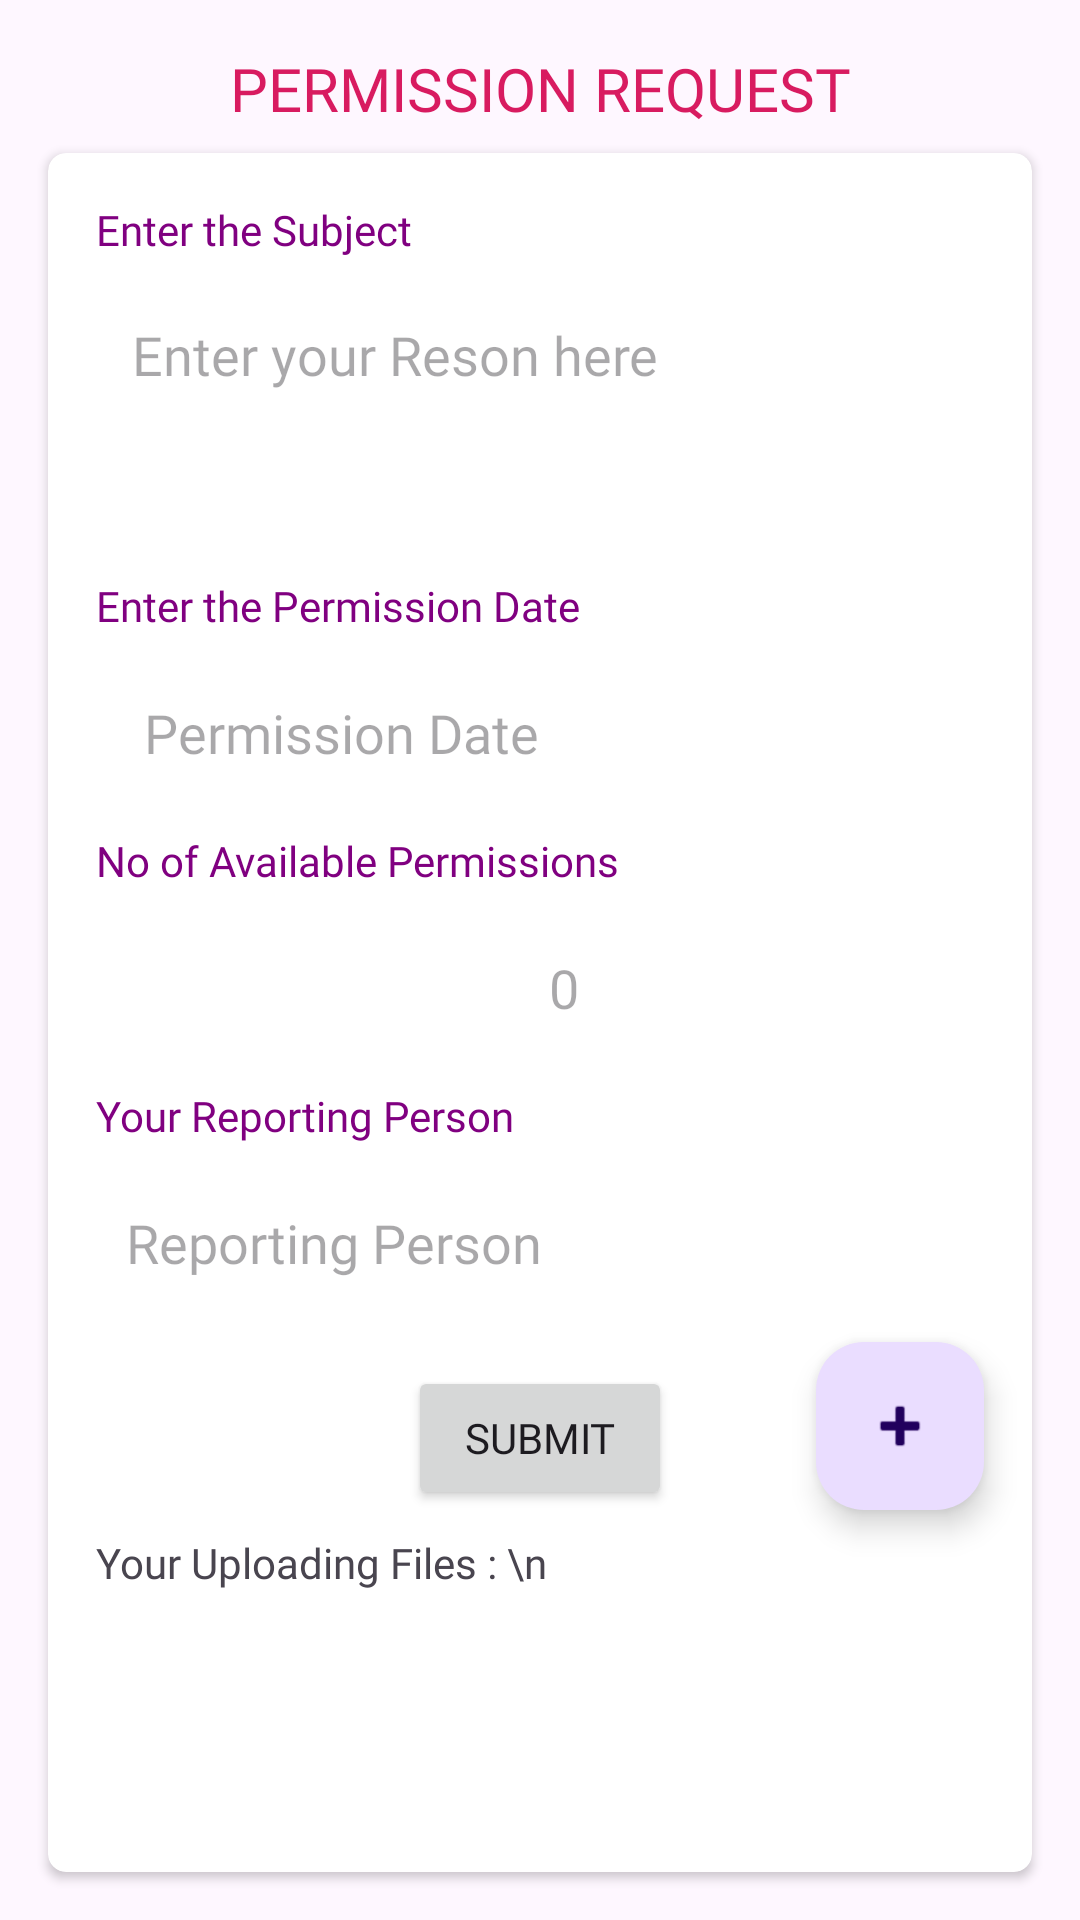

Icons on this 1080×1920 Android screen, each with its box as rect(x1, y1, x2, y2):
Adding Proof of Leave: rect(816, 1342, 984, 1510)
